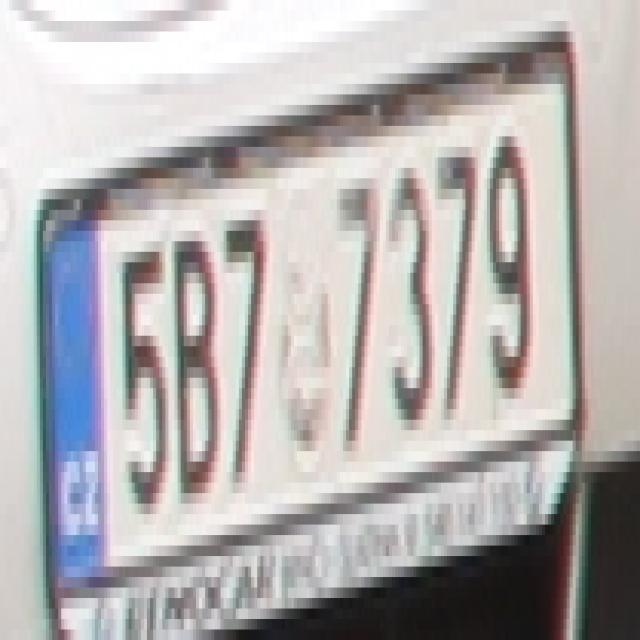3: (386, 147, 435, 430)
5: (122, 241, 168, 514)
7: (220, 210, 266, 493), (432, 126, 472, 409), (340, 168, 377, 441)
9: (481, 115, 530, 399)
B: (174, 220, 223, 504)
